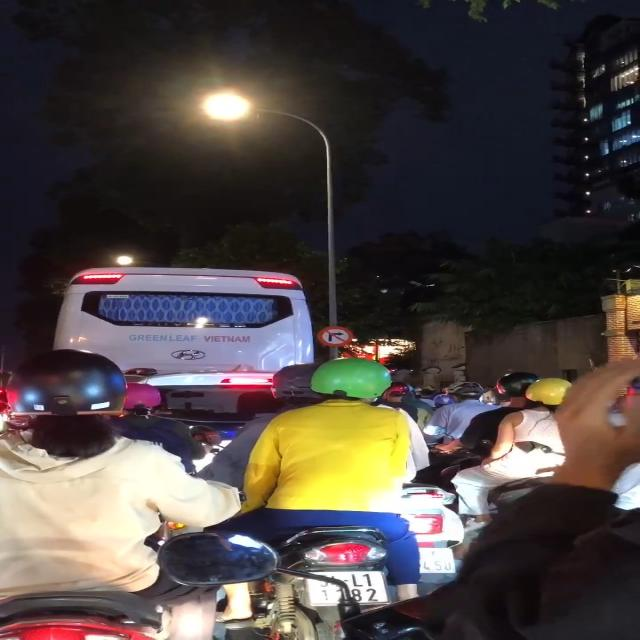Bien bao cam re phai: (315, 325, 354, 347)
